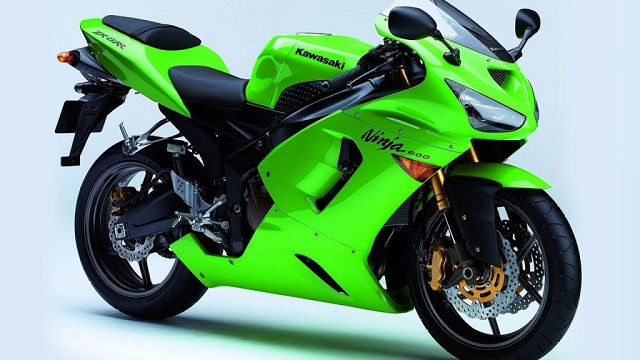bike: (63, 2, 582, 360)
